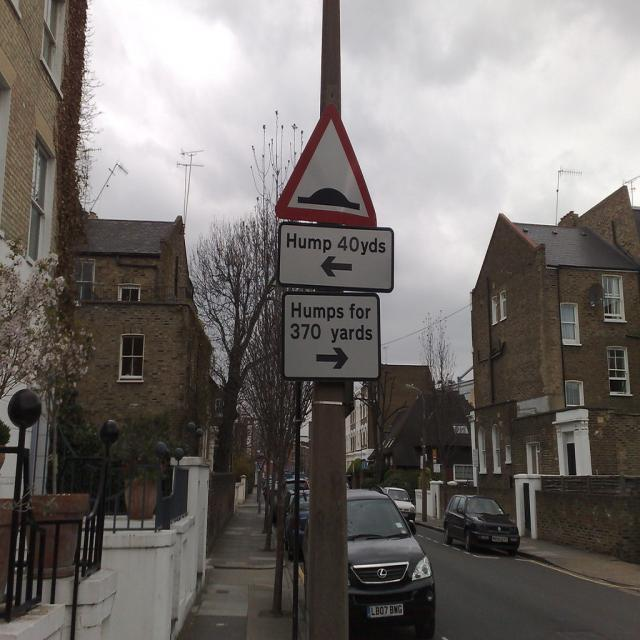hump: (276, 102, 384, 225)
